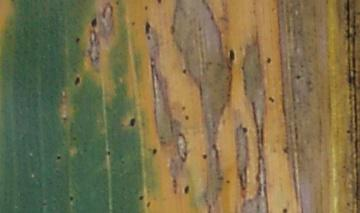tarspot: (72, 75, 82, 87), (89, 16, 98, 29), (228, 48, 236, 62), (128, 116, 136, 127), (144, 19, 150, 33), (183, 185, 190, 195), (72, 37, 80, 45), (151, 147, 158, 156), (282, 146, 289, 154), (201, 152, 208, 160), (137, 194, 144, 202), (268, 96, 275, 103), (265, 57, 272, 64), (242, 126, 248, 134), (346, 200, 351, 209), (225, 178, 231, 185), (182, 67, 187, 75), (144, 3, 149, 11), (108, 149, 112, 158), (56, 155, 62, 161), (184, 114, 189, 121), (146, 201, 151, 208), (131, 19, 136, 26), (71, 137, 78, 142), (346, 129, 351, 135), (282, 208, 288, 213), (156, 1, 162, 6), (69, 196, 74, 202), (296, 75, 301, 80), (181, 106, 186, 111), (199, 25, 202, 33), (115, 1, 120, 5)
